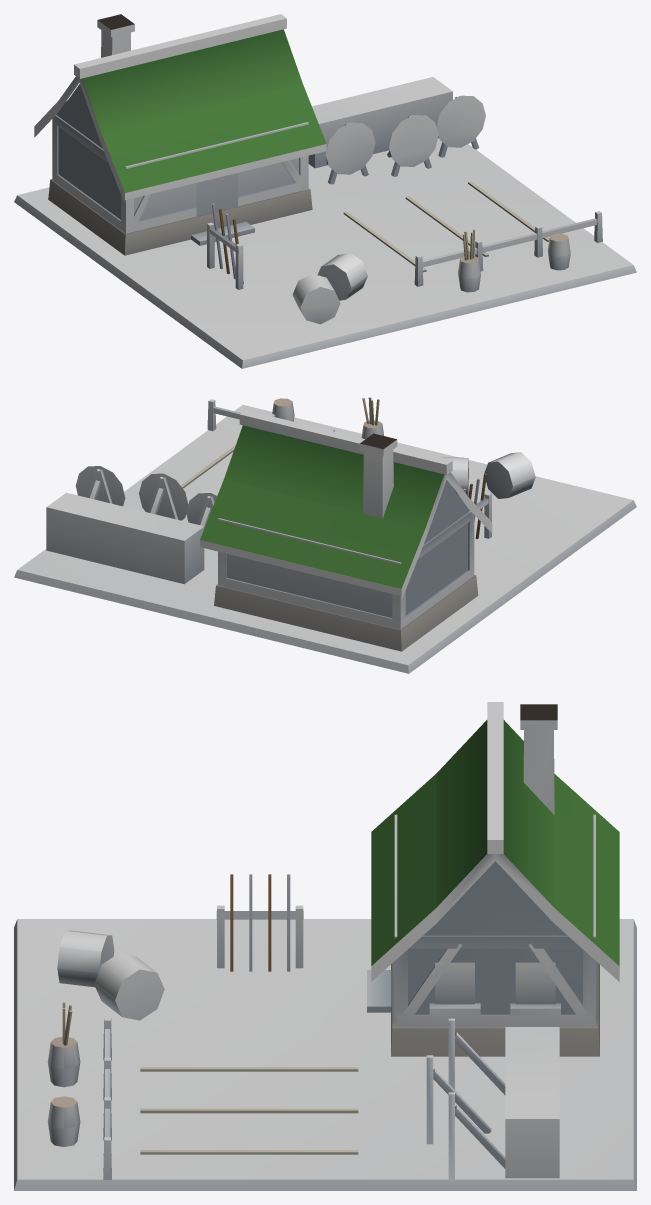
File: archery_range_t2.glb
3 renders of one model, top to bottom at view 1: azimuth 30°, elevation 25°; view 2: azimuth 150°, elevation 25°; view 3: azimuth 270°, elevation 25°, orthographic. The views are drawn at different scales.
Parts seen in each view (by area): view 1: archery_range_t2; view 2: archery_range_t2; view 3: archery_range_t2.
Boxes of the visible parts, x1,y1,x2,y2 form: archery_range_t2: (14,14,636,368); archery_range_t2: (14,397,636,673); archery_range_t2: (14,702,636,1190).
Size of the model in its own units: 2.91 by 1.32 by 2.86.
